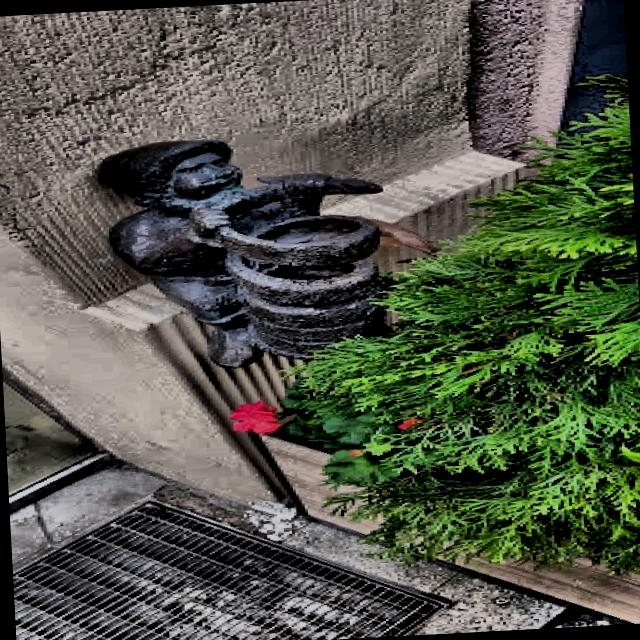Czimnejek: (89, 126, 412, 384)
